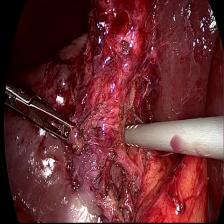Grasper: (12, 87, 78, 149)
Irrigator: (122, 118, 153, 154)
